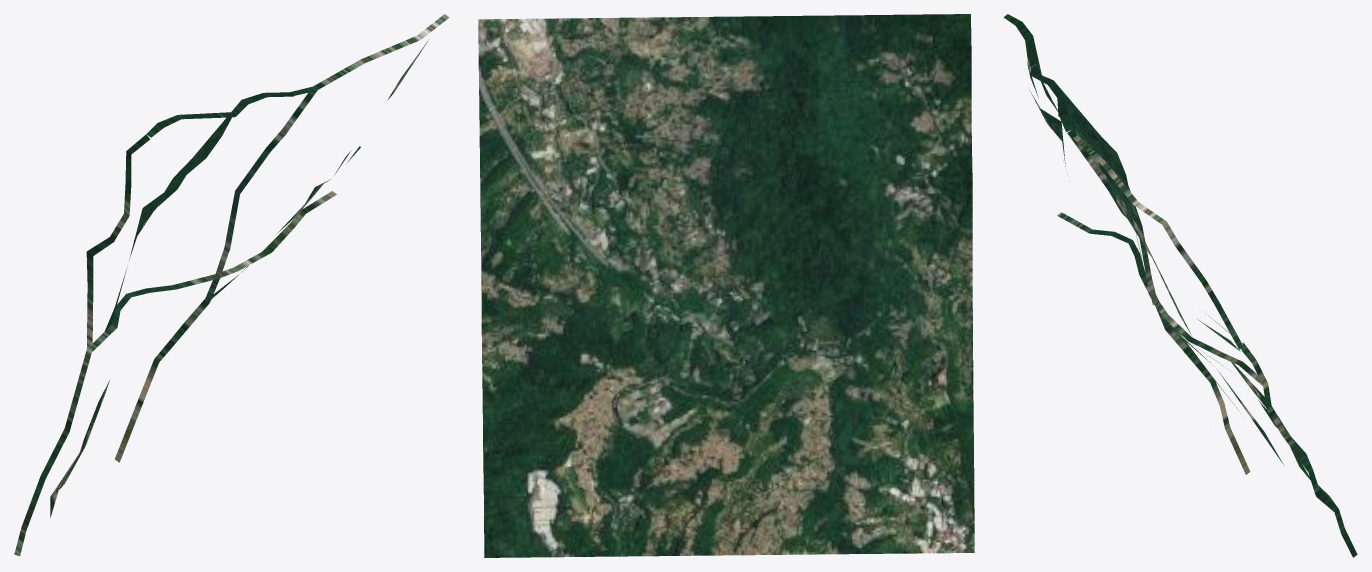
3 views of the same model, side by side, from view 1: azimuth 30°, elevation 25°; view 2: azimuth 150°, elevation 25°; view 3: azimuth 270°, elevation 25° (orthographic). The views are drawn at different scales.
Size of the model in its own units: 2488 by 2382 by 1809.
Materials: 1 (1 with a texture image).
